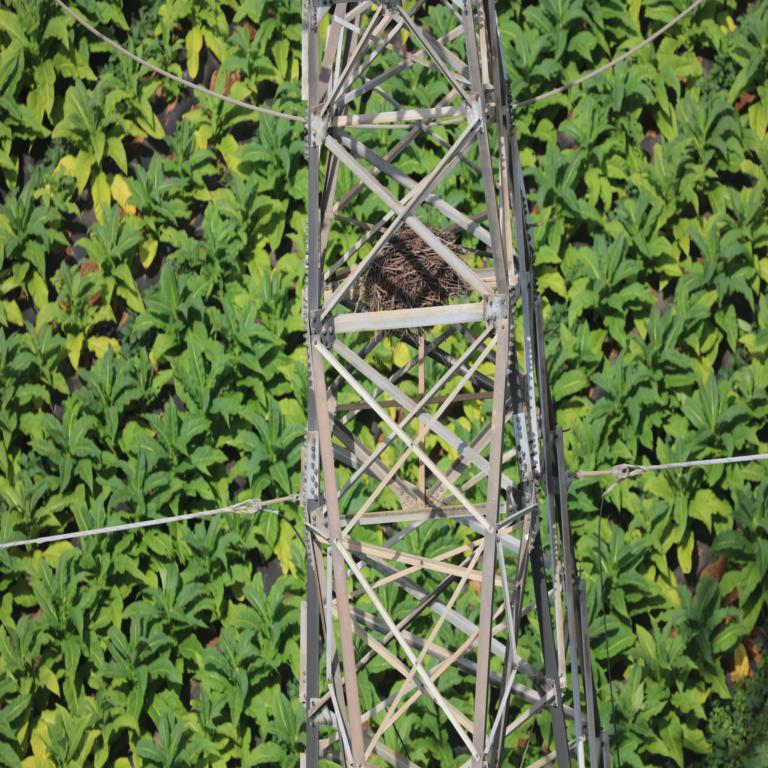nest: (359, 220, 458, 329)
